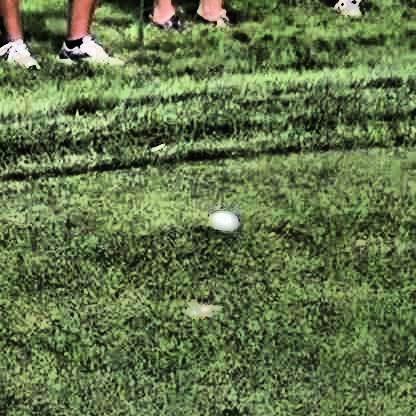golfball: (207, 207, 237, 233)
